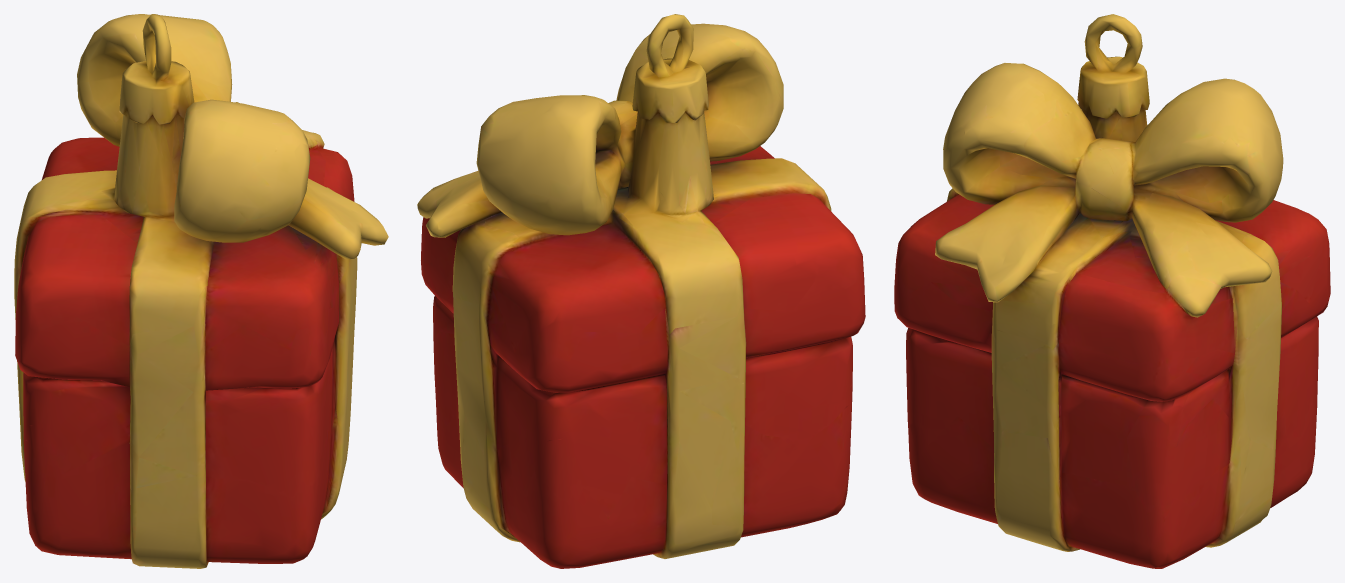
Rendered from orn_gift.glb.
3 views of the same model, side by side, from view 1: azimuth 30°, elevation 25°; view 2: azimuth 150°, elevation 25°; view 3: azimuth 270°, elevation 25° (orthographic). The views are drawn at different scales.
Visible parts, largest first — view 1: tripo_node_1d0b0987-7cc3-45c5-bb8a-5d4448357ed2; view 2: tripo_node_1d0b0987-7cc3-45c5-bb8a-5d4448357ed2; view 3: tripo_node_1d0b0987-7cc3-45c5-bb8a-5d4448357ed2.
Part boxes in pixels (left/top/right/bottom): tripo_node_1d0b0987-7cc3-45c5-bb8a-5d4448357ed2: left=14, top=14, right=388, bottom=568; tripo_node_1d0b0987-7cc3-45c5-bb8a-5d4448357ed2: left=417, top=14, right=865, bottom=568; tripo_node_1d0b0987-7cc3-45c5-bb8a-5d4448357ed2: left=894, top=14, right=1330, bottom=568.
Bounding box in the file's own units: 0.8058 × 1 × 0.8274.
Materials: 1 (1 with a texture image).
